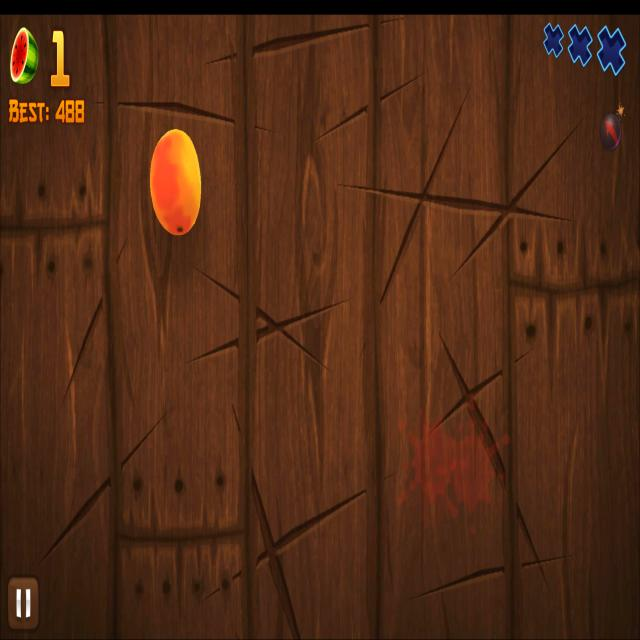fruit: (150, 130, 202, 235)
